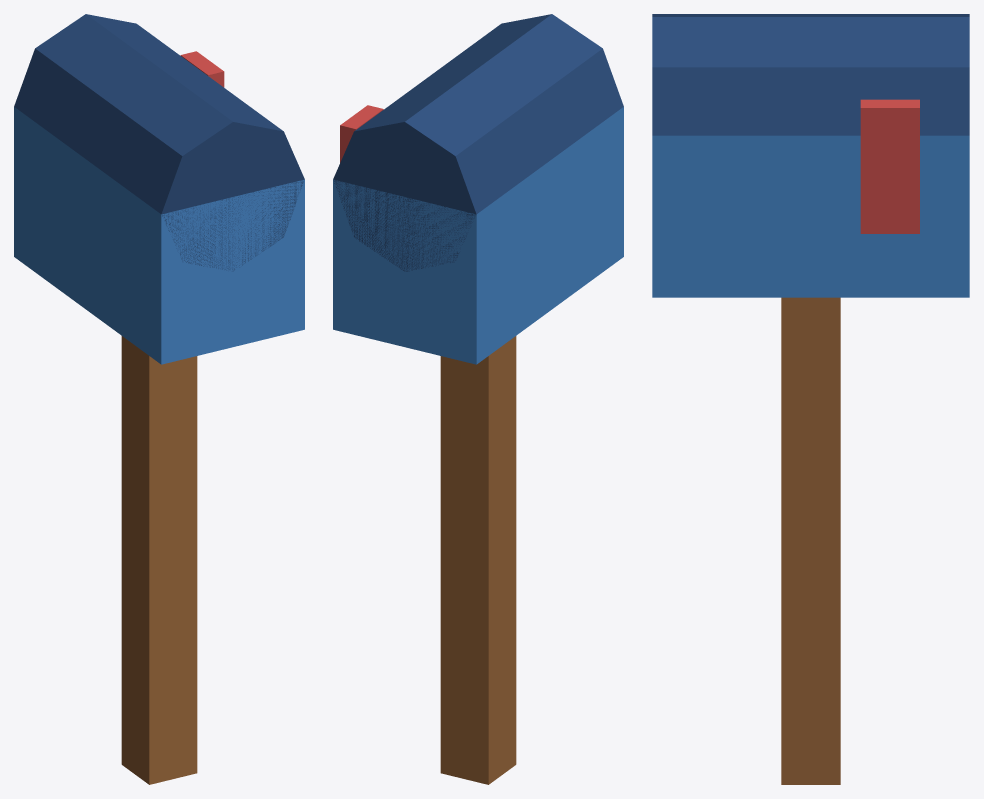
The model's file is mdl_z3_buzon.fbx.
The picture shows the model from 3 angles, left to right: view 1: azimuth 30°, elevation 25°; view 2: azimuth 150°, elevation 25°; view 3: azimuth 270°, elevation 25°; orthographic projection. The views are drawn at different scales.
Parts seen in each view (by area): view 1: mdl_z3_buzon; view 2: mdl_z3_buzon; view 3: mdl_z3_buzon.
Part boxes in pixels (<box>): mdl_z3_buzon: <box>14,14,304,784</box>; mdl_z3_buzon: <box>333,14,623,784</box>; mdl_z3_buzon: <box>652,14,969,784</box>.
Bounding box in the file's own units: 100 × 420 × 160.
